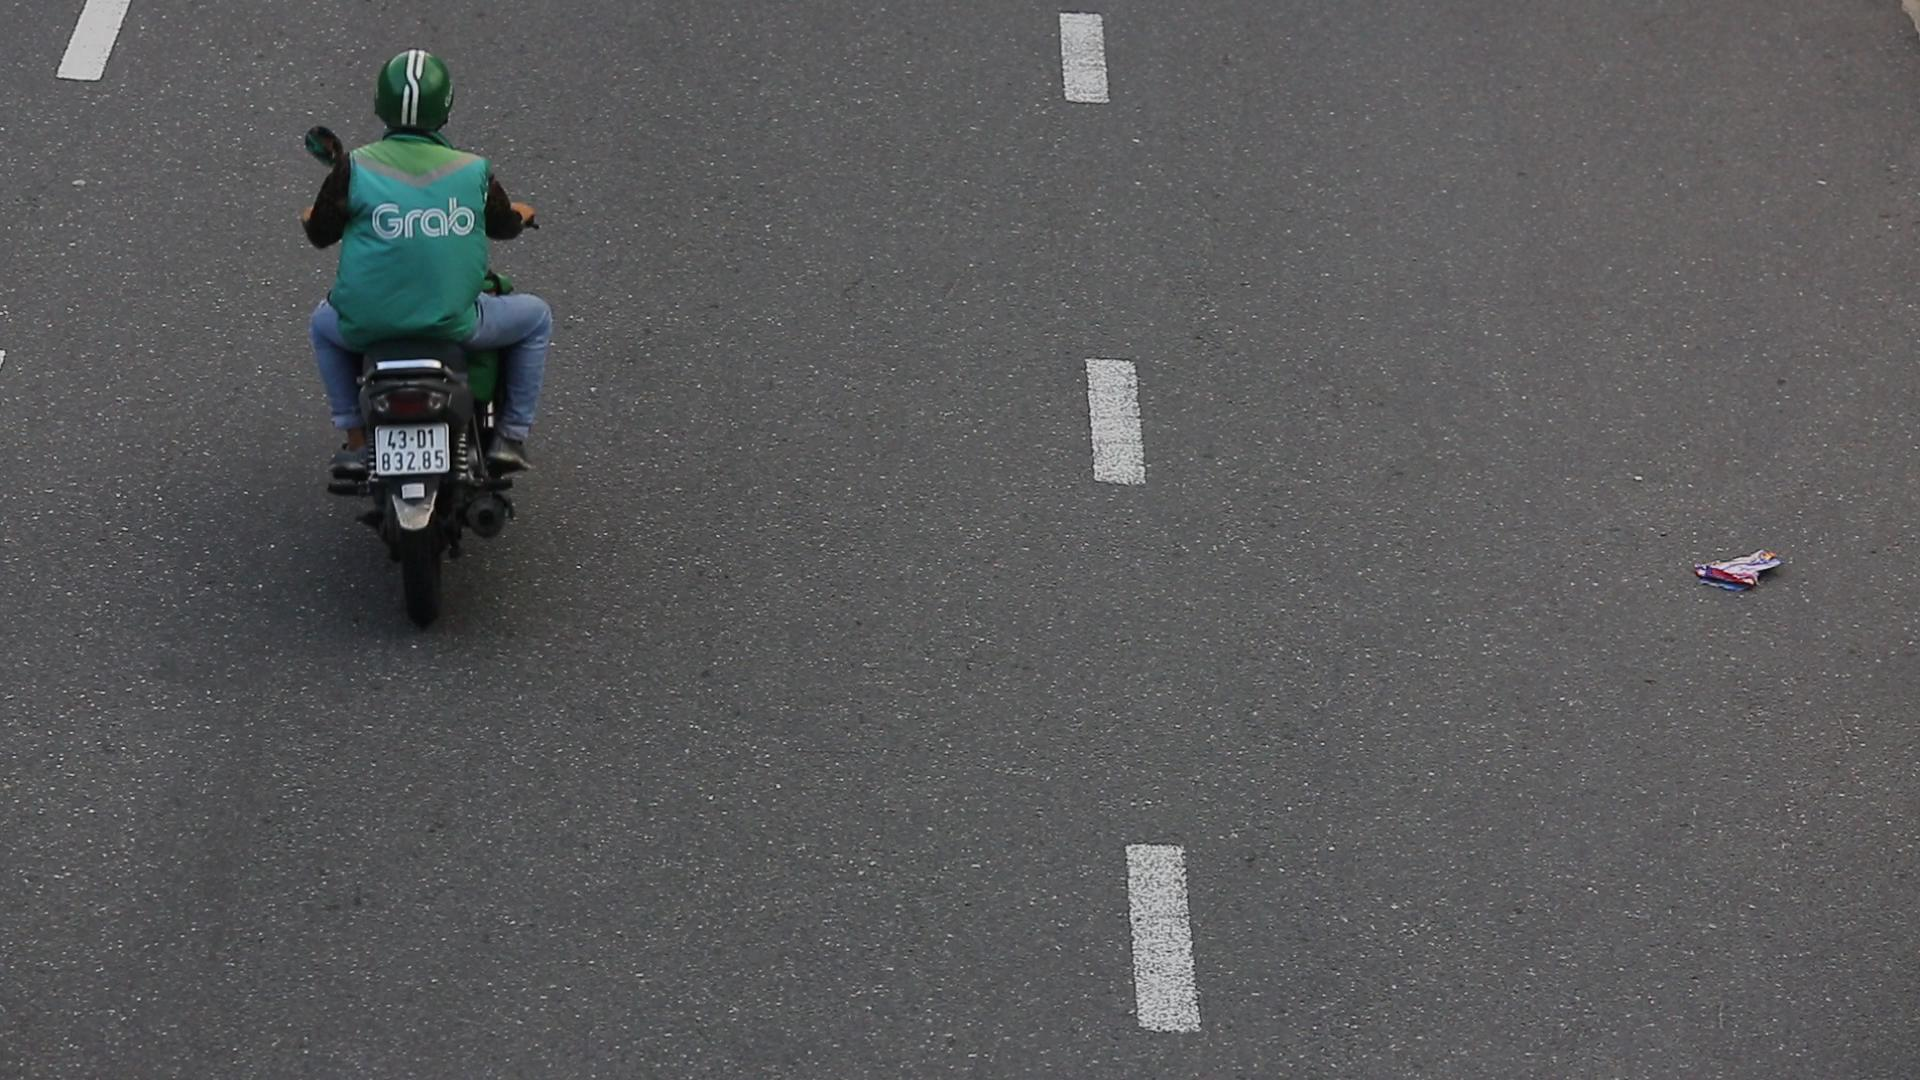motobike: (273, 30, 583, 637)
